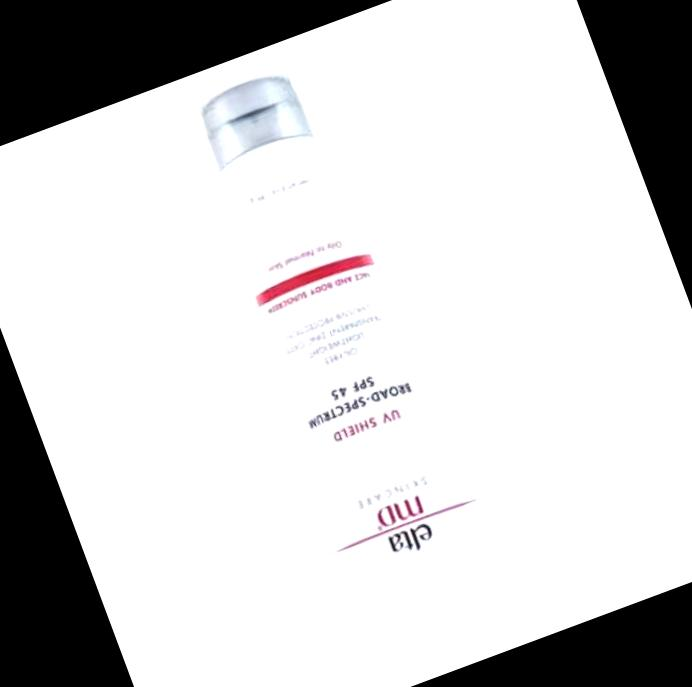cosmetic: (150, 50, 533, 667)
